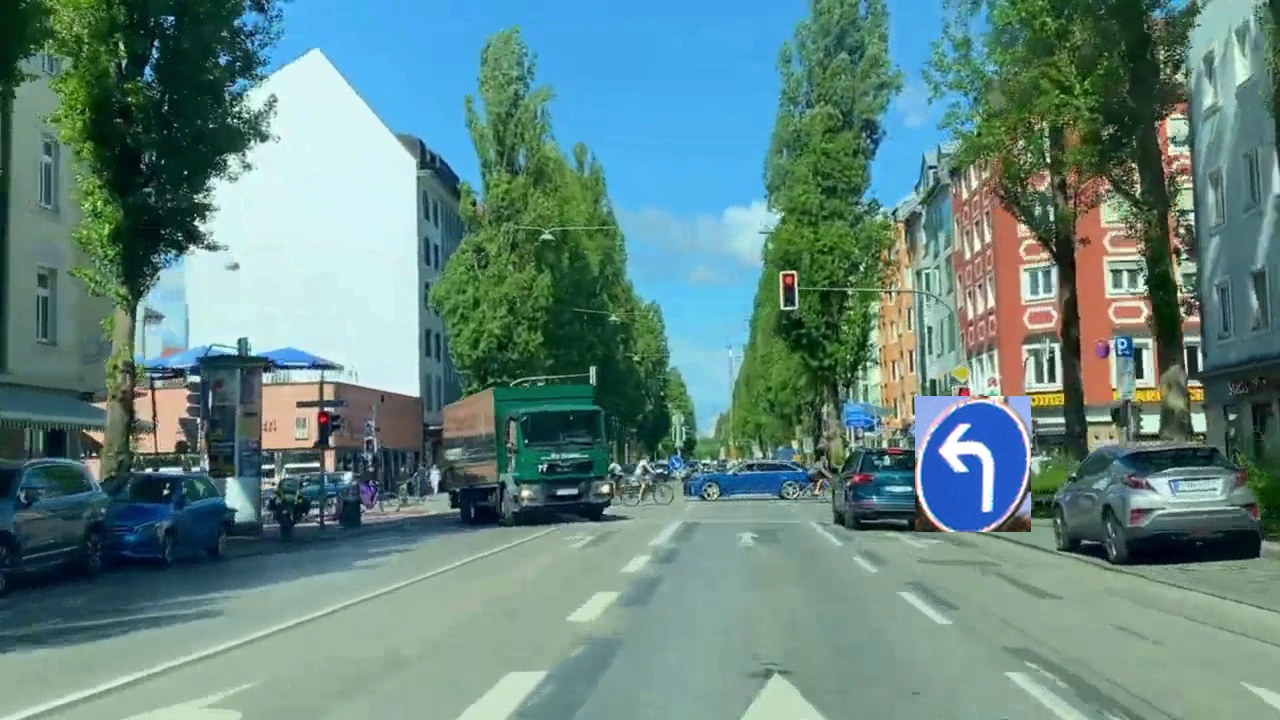Turn left: (915, 396, 1031, 532)
